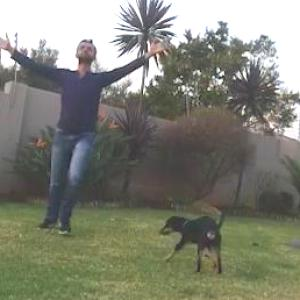takeoff: (0, 47, 156, 210)
